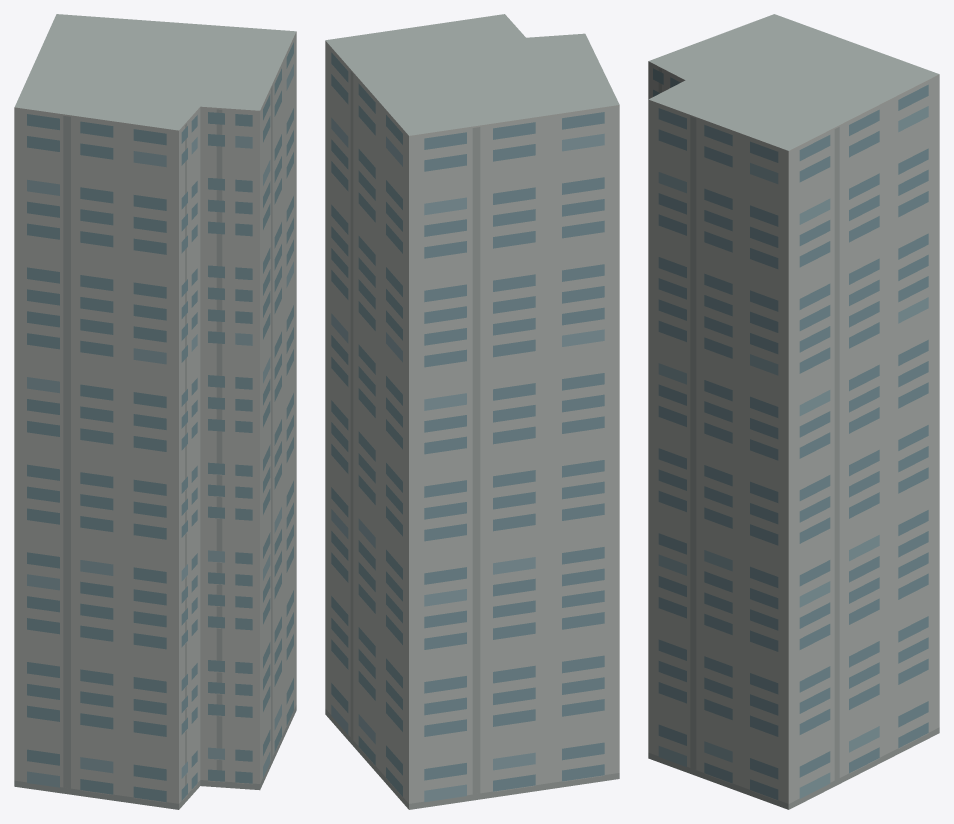
The model's file is residential-c86027b1-7b0f-4a50-aa0f-3859b2f1d301.glb.
3 views of the same model, side by side, from view 1: azimuth 30°, elevation 25°; view 2: azimuth 150°, elevation 25°; view 3: azimuth 270°, elevation 25° (orthographic). The views are drawn at different scales.
Visible parts, largest first — view 1: residential-c86027b1-7b0f-4a50-aa0f-3859b2f1d301.tmp; view 2: residential-c86027b1-7b0f-4a50-aa0f-3859b2f1d301.tmp; view 3: residential-c86027b1-7b0f-4a50-aa0f-3859b2f1d301.tmp.
Boxes of the visible parts, x1,y1,x2,y2 form: residential-c86027b1-7b0f-4a50-aa0f-3859b2f1d301.tmp: [14, 14, 296, 809]; residential-c86027b1-7b0f-4a50-aa0f-3859b2f1d301.tmp: [325, 14, 619, 809]; residential-c86027b1-7b0f-4a50-aa0f-3859b2f1d301.tmp: [648, 14, 939, 809].
Size of the model in its own units: 49.06 by 110 by 44.06.
